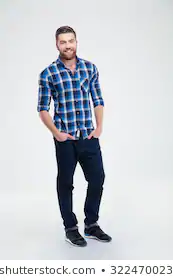person: (27, 17, 114, 124)
